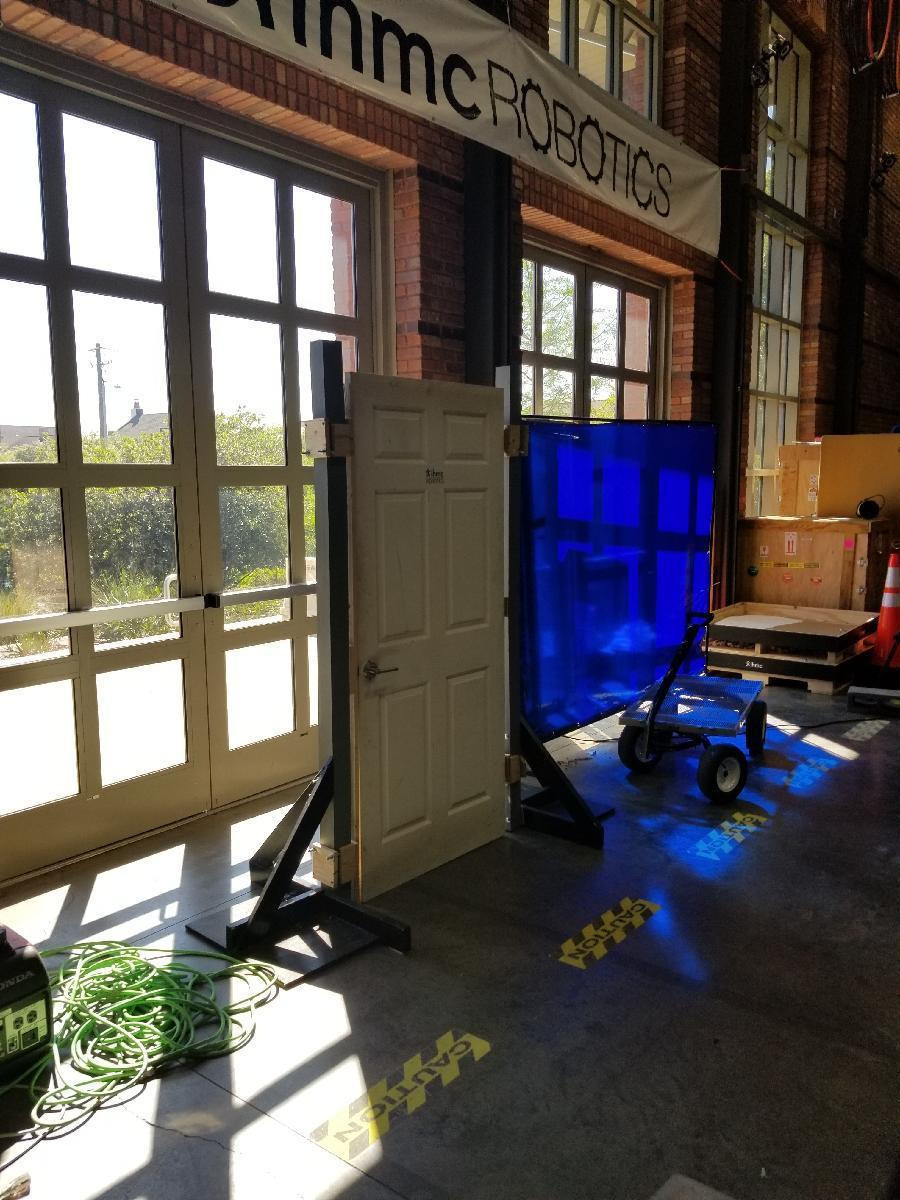door: (348, 368, 516, 879)
handle: (362, 656, 404, 686)
